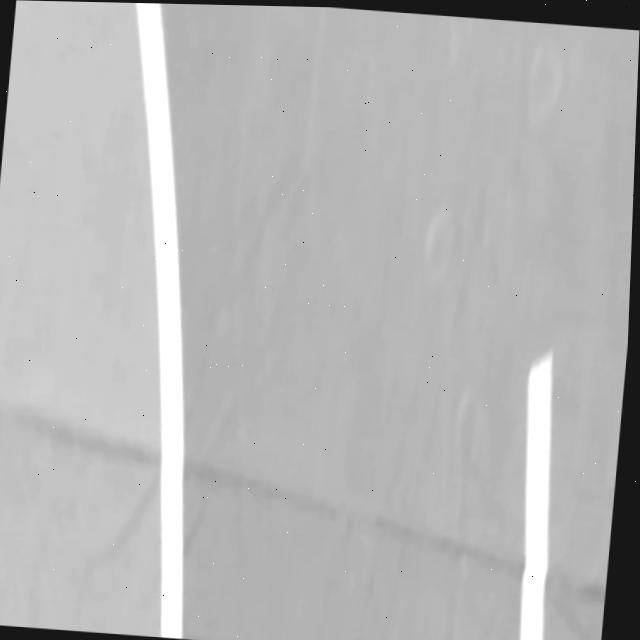center: (519, 353, 552, 640)
left: (135, 3, 183, 639)
